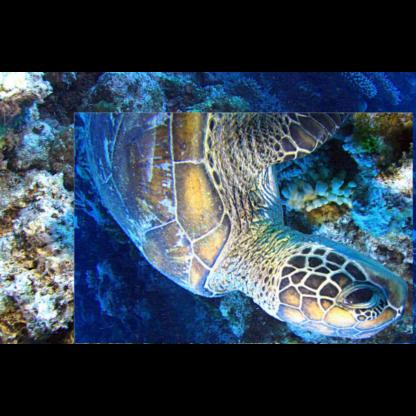turtle: (74, 111, 413, 342)
